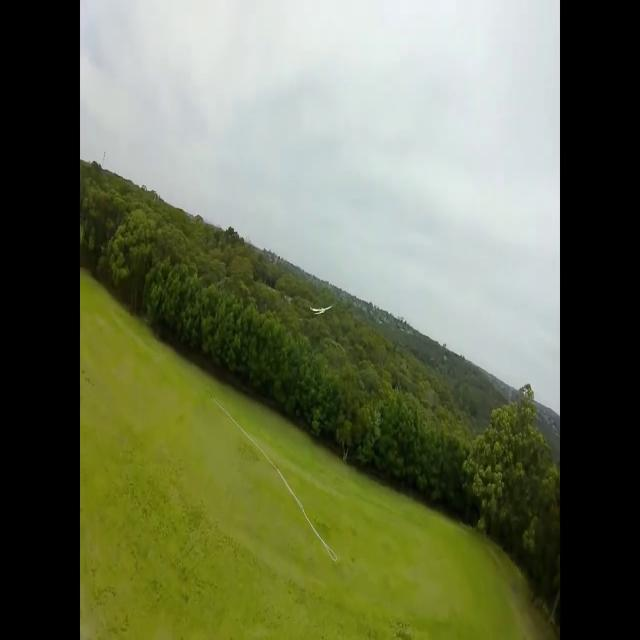iha: (309, 303, 332, 317)
